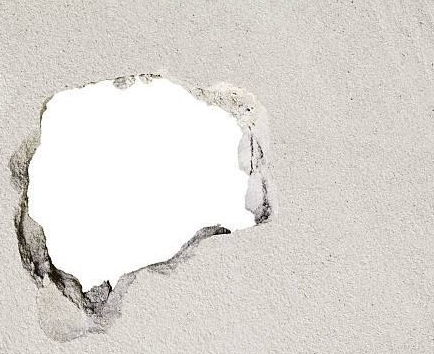Spalling: (8, 72, 271, 318)
